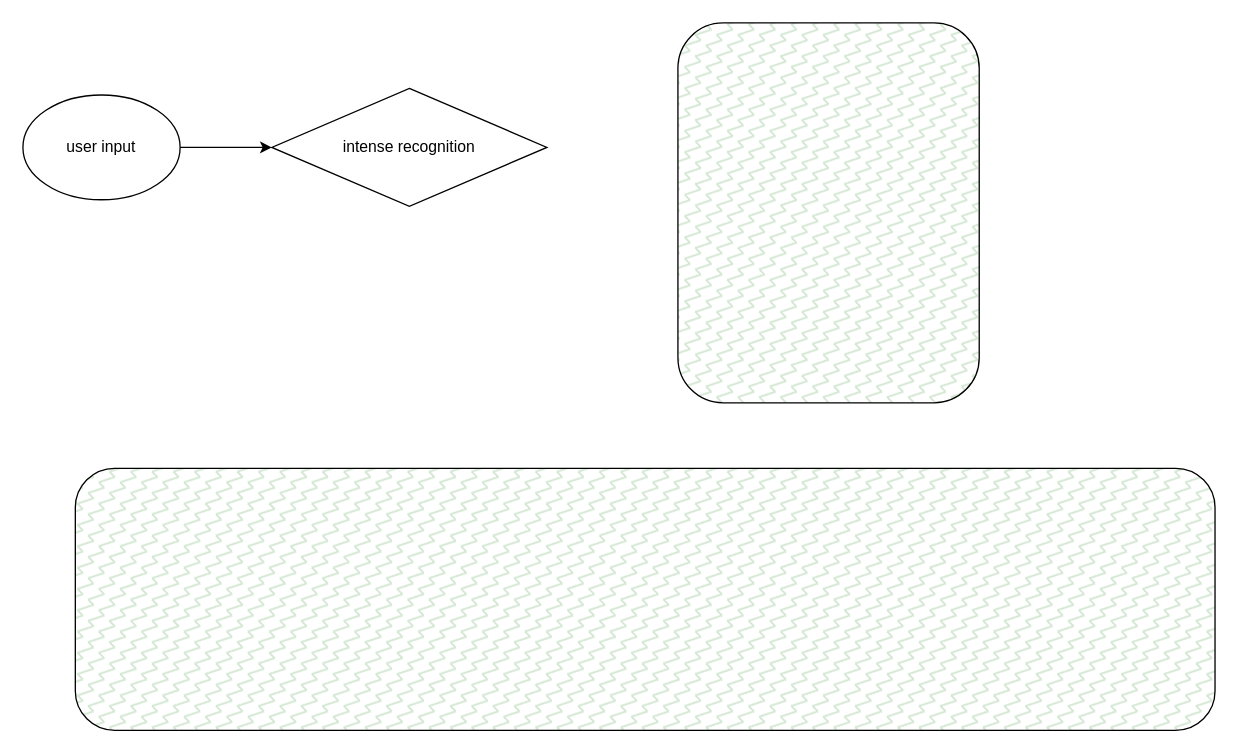
The diagram is 1238 pixels wide and 753 high, and some of its shapes have lost their labels. The shapes that lost their labels are listed below. From the top down, each one's centre as x and y in pixels, then its label:
At (x=828, y=212): "仿写 重写 分析结构 查询热点话题 查询话题文章/新闻".
At (x=644, y=598): "诉求： 写文章； （1）根据话题写； （2）仿写；".
